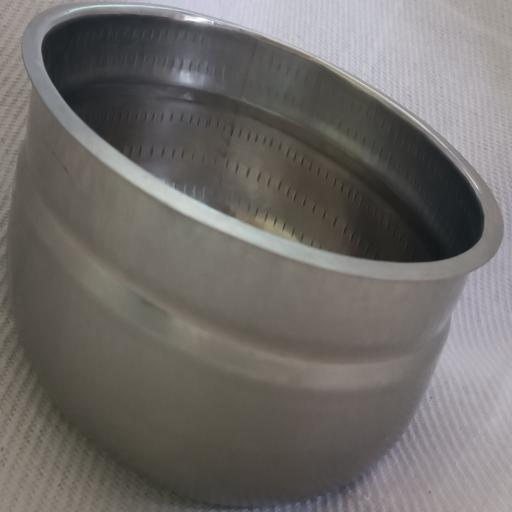vessel: (9, 5, 503, 500)
